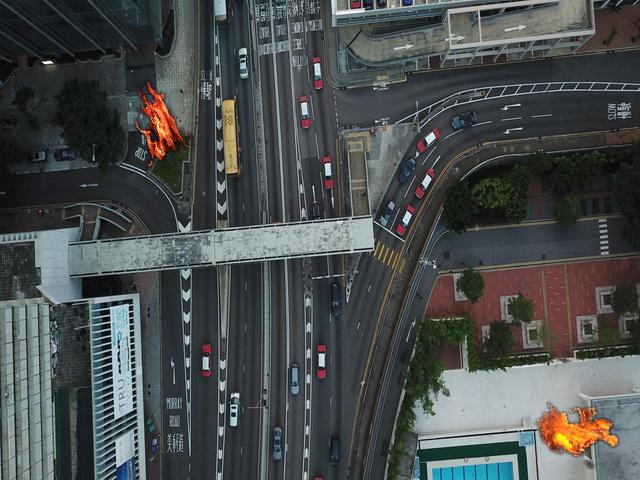fire: (130, 66, 197, 167), (536, 401, 618, 468)
